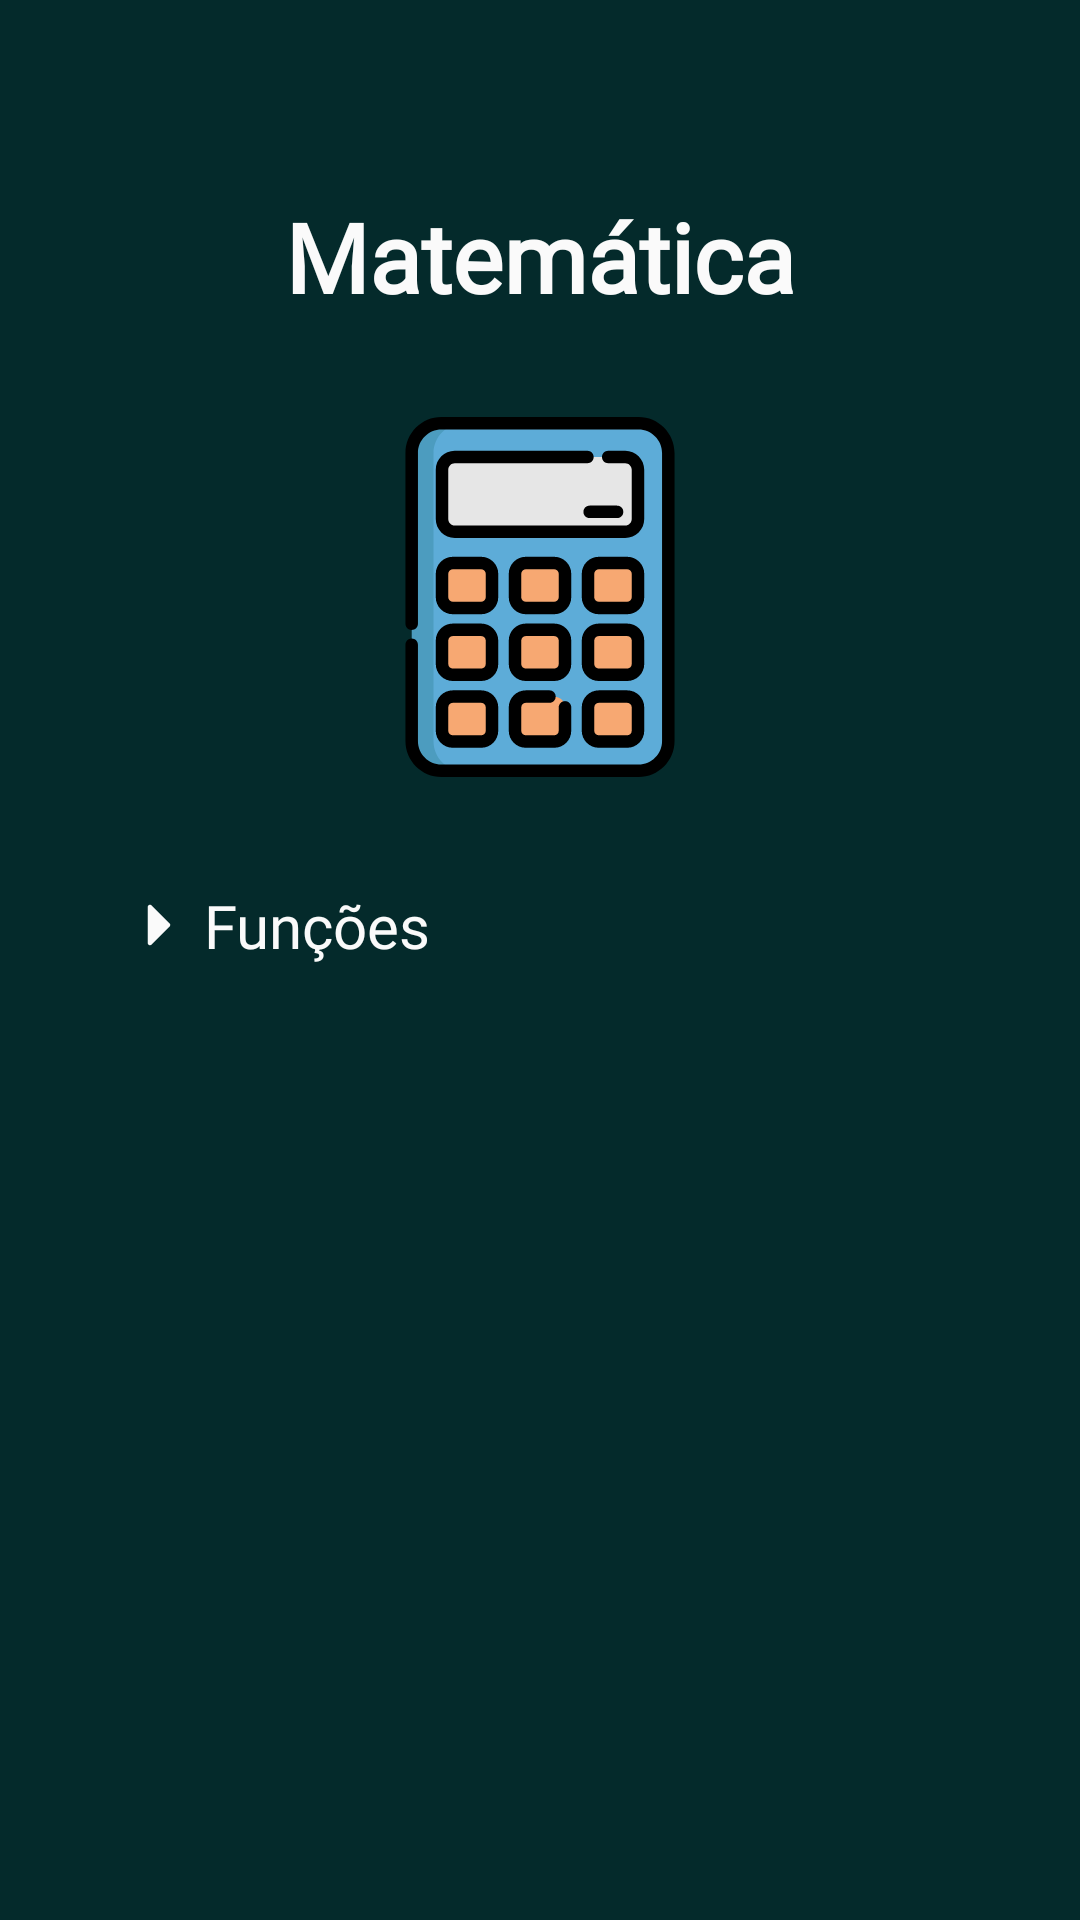

Icon click points for this 1080w x 1920h phone screenshot, format point (x, y):
arrow right: point (159, 925)
